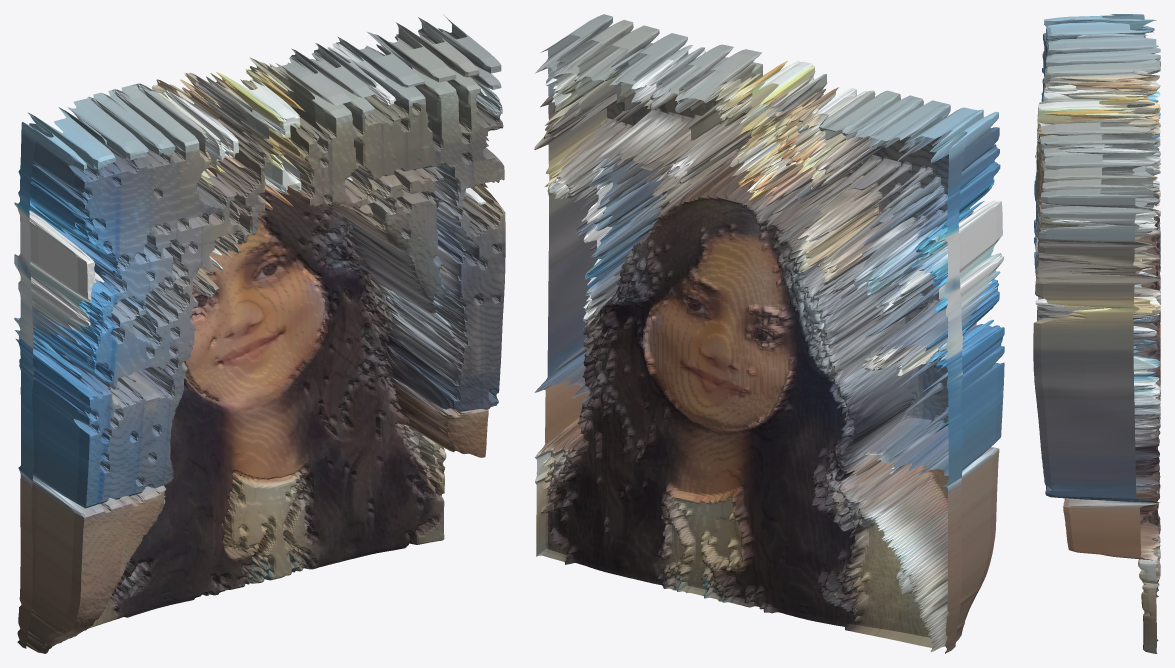
File: holo_depth_3201992976.glb
3 renders of one model, left to right at view 1: azimuth 30°, elevation 25°; view 2: azimuth 150°, elevation 25°; view 3: azimuth 270°, elevation 25°, orthographic. The views are drawn at different scales.
Visible parts, largest first — view 1: world; view 2: world; view 3: world.
Boxes of the visible parts, x1,y1,x2,y2 form: world: (14, 14, 505, 653); world: (534, 14, 1004, 653); world: (1033, 14, 1160, 653).
Size of the model in its own units: 0.8591 by 1.01 by 0.254.
Materials: 1 (1 with a texture image).
